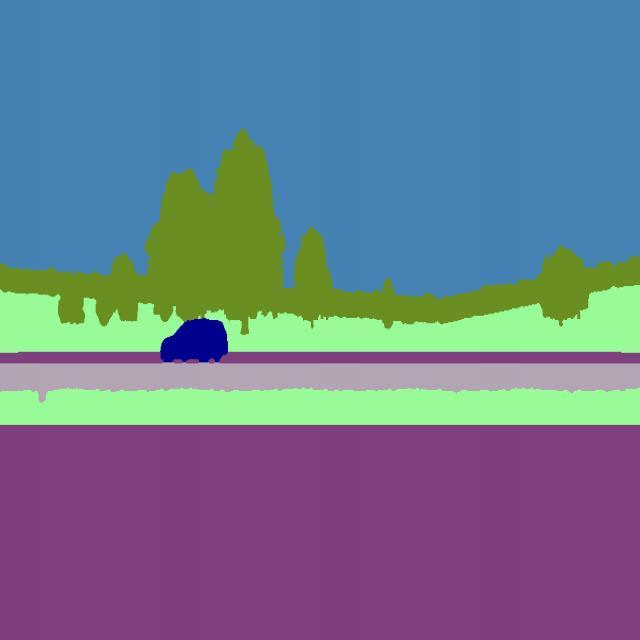safe: (159, 314, 228, 368)
